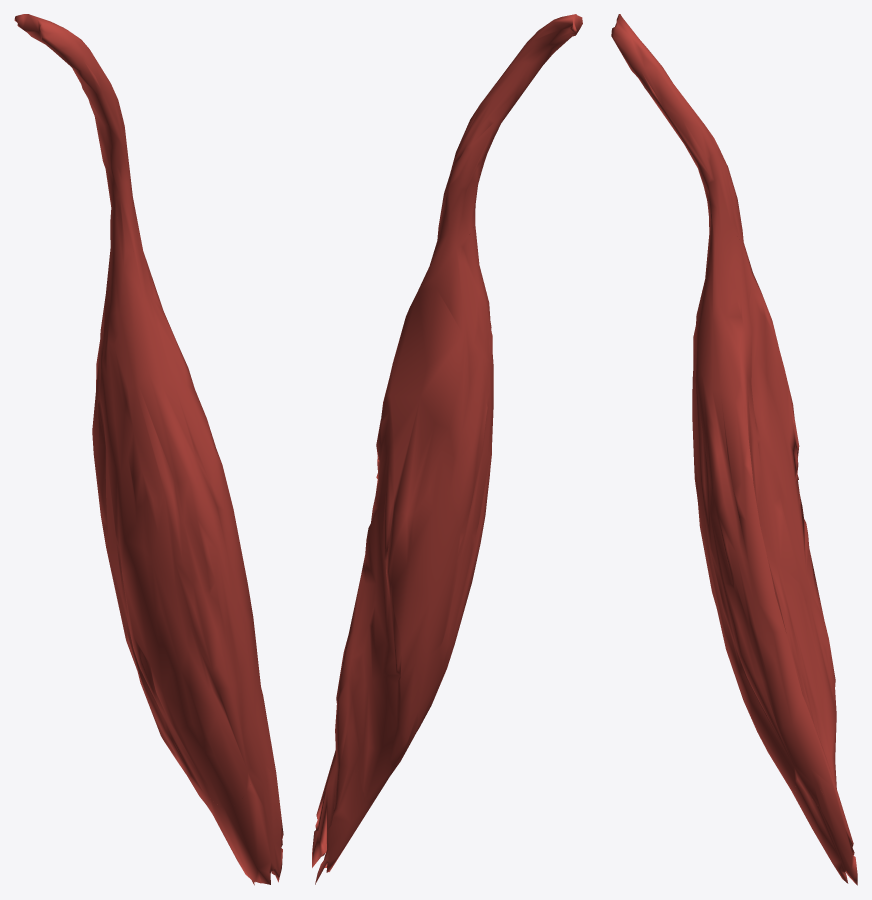
File: musculos-short-head-of-biceps-brachii-l.glb
3 renders of one model, left to right at view 1: azimuth 30°, elevation 25°; view 2: azimuth 150°, elevation 25°; view 3: azimuth 330°, elevation 25°, orthographic. The views are drawn at different scales.
Parts seen in each view (by area): view 1: Short head of biceps brachii.l; view 2: Short head of biceps brachii.l; view 3: Short head of biceps brachii.l.
Boxes of the visible parts, x1=… form: Short head of biceps brachii.l: x1=14, y1=14, x2=283, y2=885; Short head of biceps brachii.l: x1=312, y1=14, x2=582, y2=884; Short head of biceps brachii.l: x1=611, y1=14, x2=857, y2=885.
Size of the model in its own units: 0.0812 by 0.272 by 0.0343.
